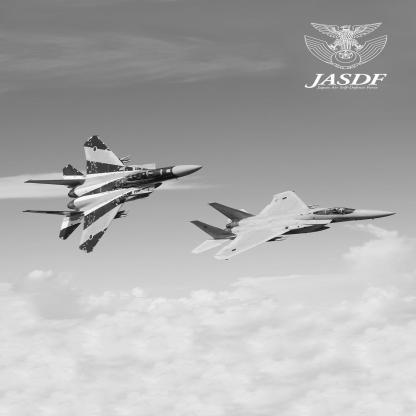F15: (23, 136, 204, 254), (190, 192, 398, 262)
